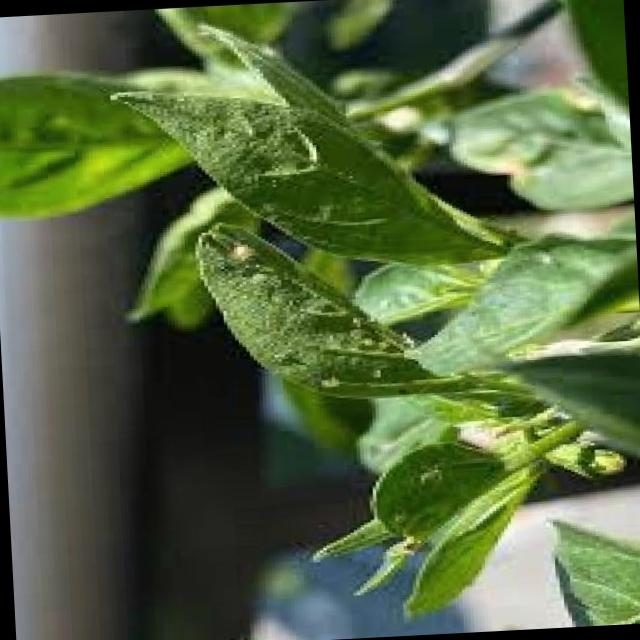aphid: (403, 461, 450, 489), (220, 236, 258, 264), (364, 328, 397, 354), (306, 369, 342, 392), (350, 330, 379, 352)
